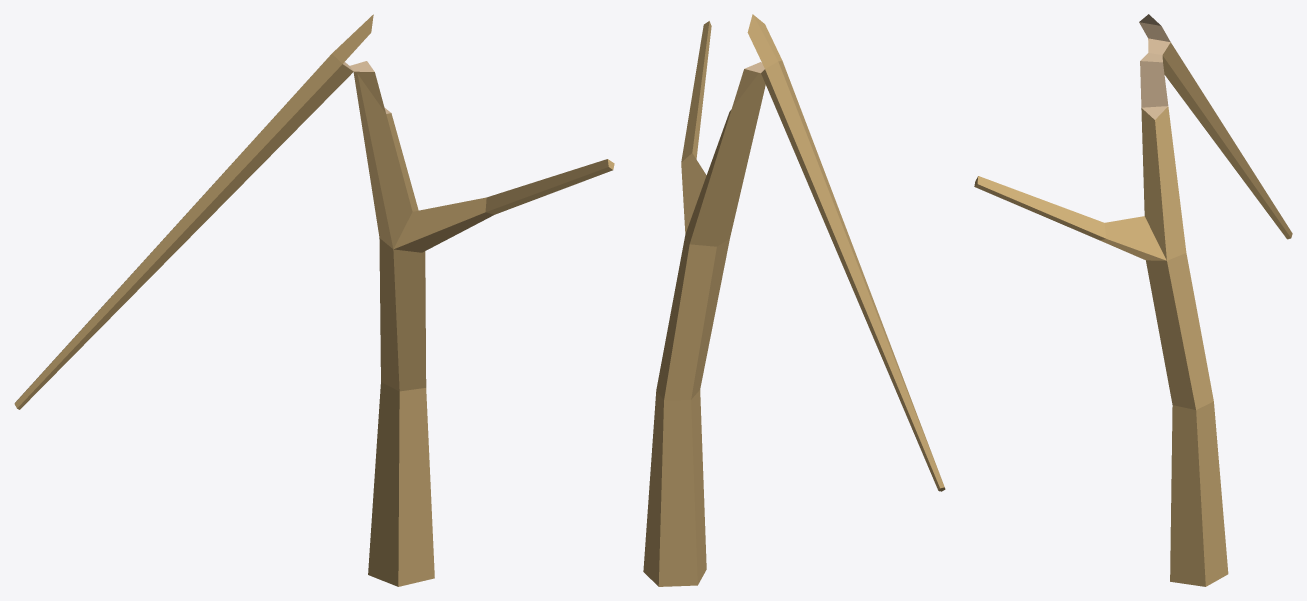
File: Simple_Tree_NoLeaves_crk_s_BT_02.fbx
3 renders of one model, left to right at view 1: azimuth 30°, elevation 25°; view 2: azimuth 150°, elevation 25°; view 3: azimuth 270°, elevation 25°, orthographic. The views are drawn at different scales.
Visible parts, largest first — view 1: Simple_Tree_NoLeaves_crk_s_BT_02; view 2: Simple_Tree_NoLeaves_crk_s_BT_02; view 3: Simple_Tree_NoLeaves_crk_s_BT_02.
Part boxes in pixels (x1=…): Simple_Tree_NoLeaves_crk_s_BT_02: x1=14, y1=14, x2=614, y2=586; Simple_Tree_NoLeaves_crk_s_BT_02: x1=643, y1=14, x2=945, y2=586; Simple_Tree_NoLeaves_crk_s_BT_02: x1=974, y1=14, x2=1292, y2=586.
Size of the model in its own units: 181 by 239 by 129.
